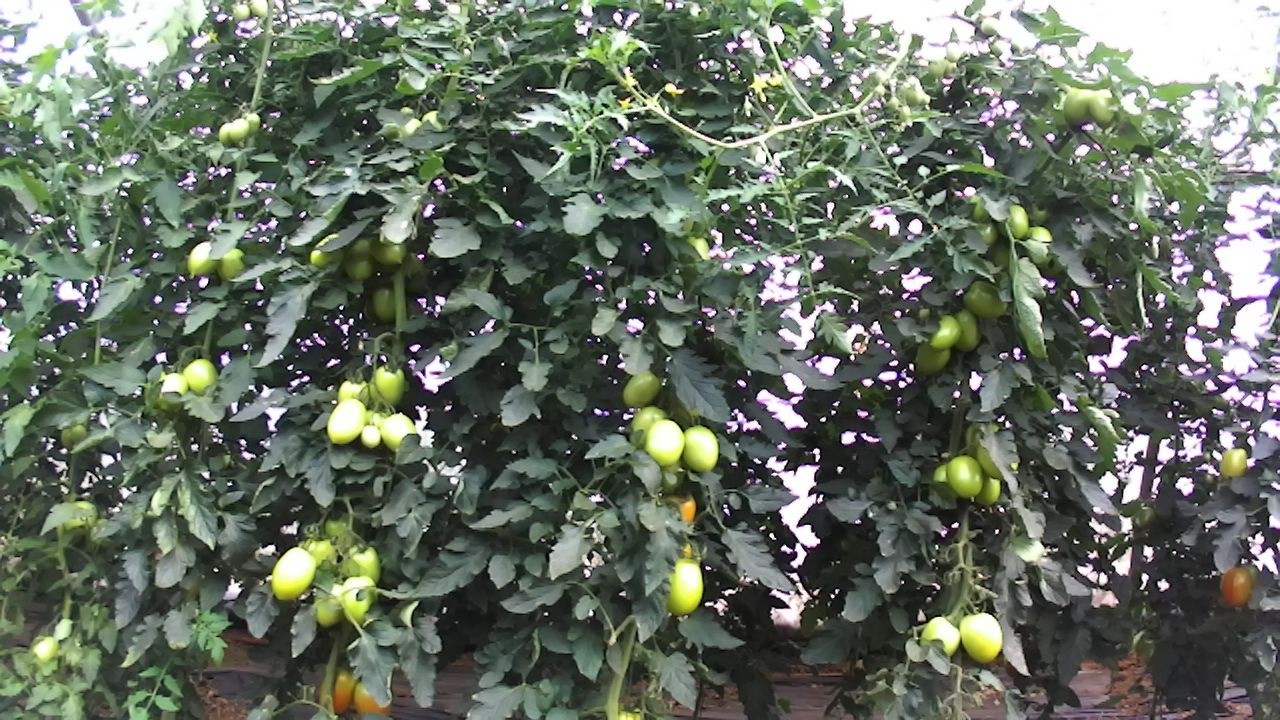tomato: (269, 543, 317, 602), (957, 610, 1005, 665), (665, 556, 706, 618), (680, 422, 722, 476), (917, 612, 963, 661), (644, 416, 688, 467), (324, 395, 367, 447), (338, 572, 378, 627), (960, 277, 1010, 320), (945, 452, 985, 503), (178, 356, 224, 398), (343, 541, 384, 587), (376, 407, 417, 452), (339, 233, 374, 285), (370, 361, 407, 408), (950, 307, 986, 355), (913, 335, 954, 377), (182, 236, 219, 281), (621, 369, 661, 409), (993, 200, 1031, 242), (926, 312, 963, 353), (366, 232, 409, 267), (1219, 565, 1252, 609), (368, 283, 398, 327), (1062, 85, 1092, 128), (1088, 87, 1116, 127), (1217, 445, 1247, 479), (227, 116, 248, 146), (359, 423, 382, 450), (216, 120, 233, 147)
